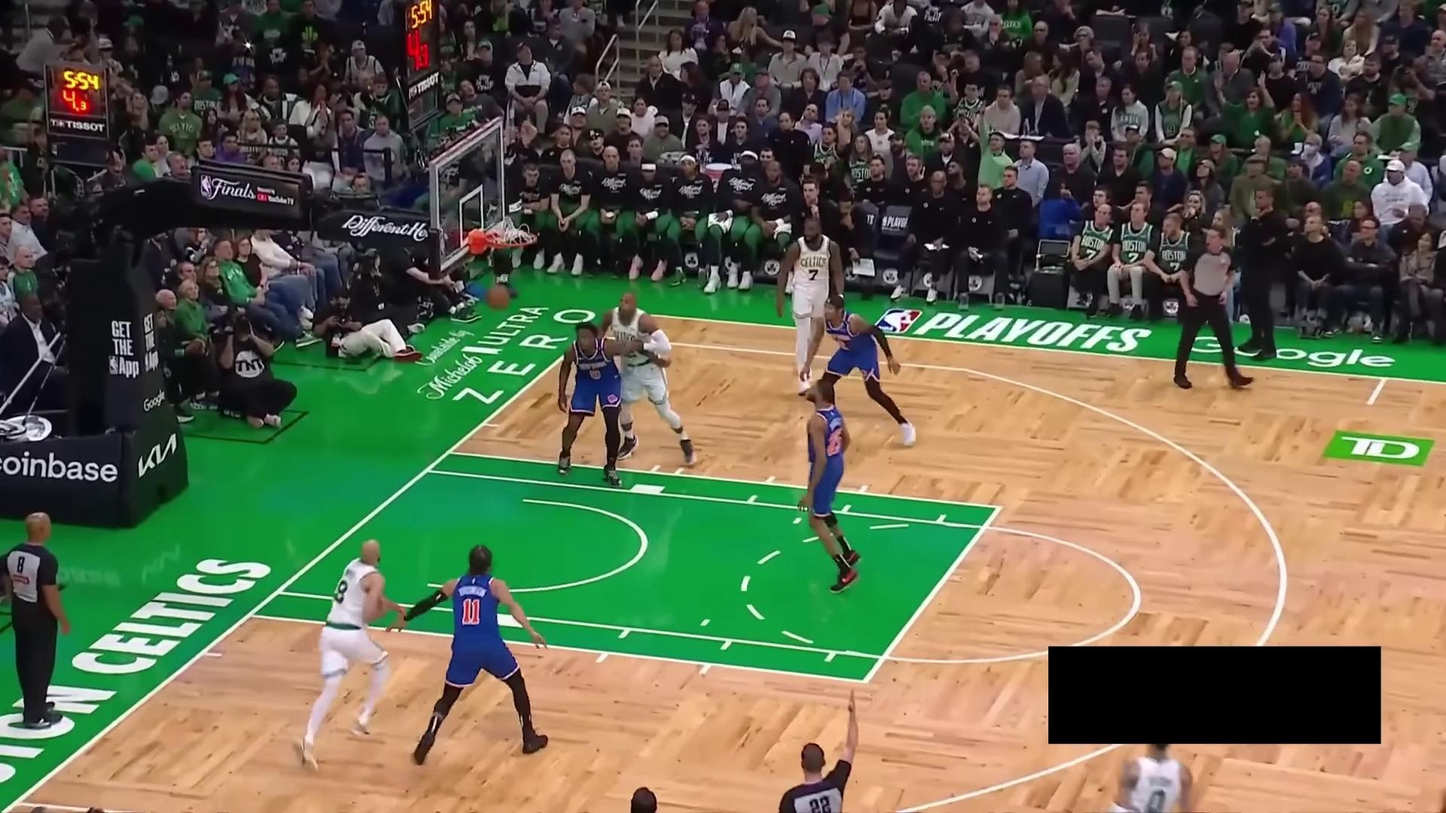ball: (487, 283, 509, 310)
number: (462, 595, 483, 626), (1143, 789, 1169, 813), (825, 426, 844, 456), (334, 578, 348, 604), (807, 267, 820, 282), (590, 368, 602, 380)
player: (390, 541, 549, 766), (293, 539, 408, 770), (553, 318, 672, 488), (798, 292, 919, 453), (597, 290, 698, 467), (789, 375, 867, 593), (775, 213, 846, 393), (1101, 745, 1199, 813)
referee: (0, 507, 73, 730), (1171, 219, 1256, 393), (777, 682, 861, 813)
rim: (481, 229, 537, 249)
